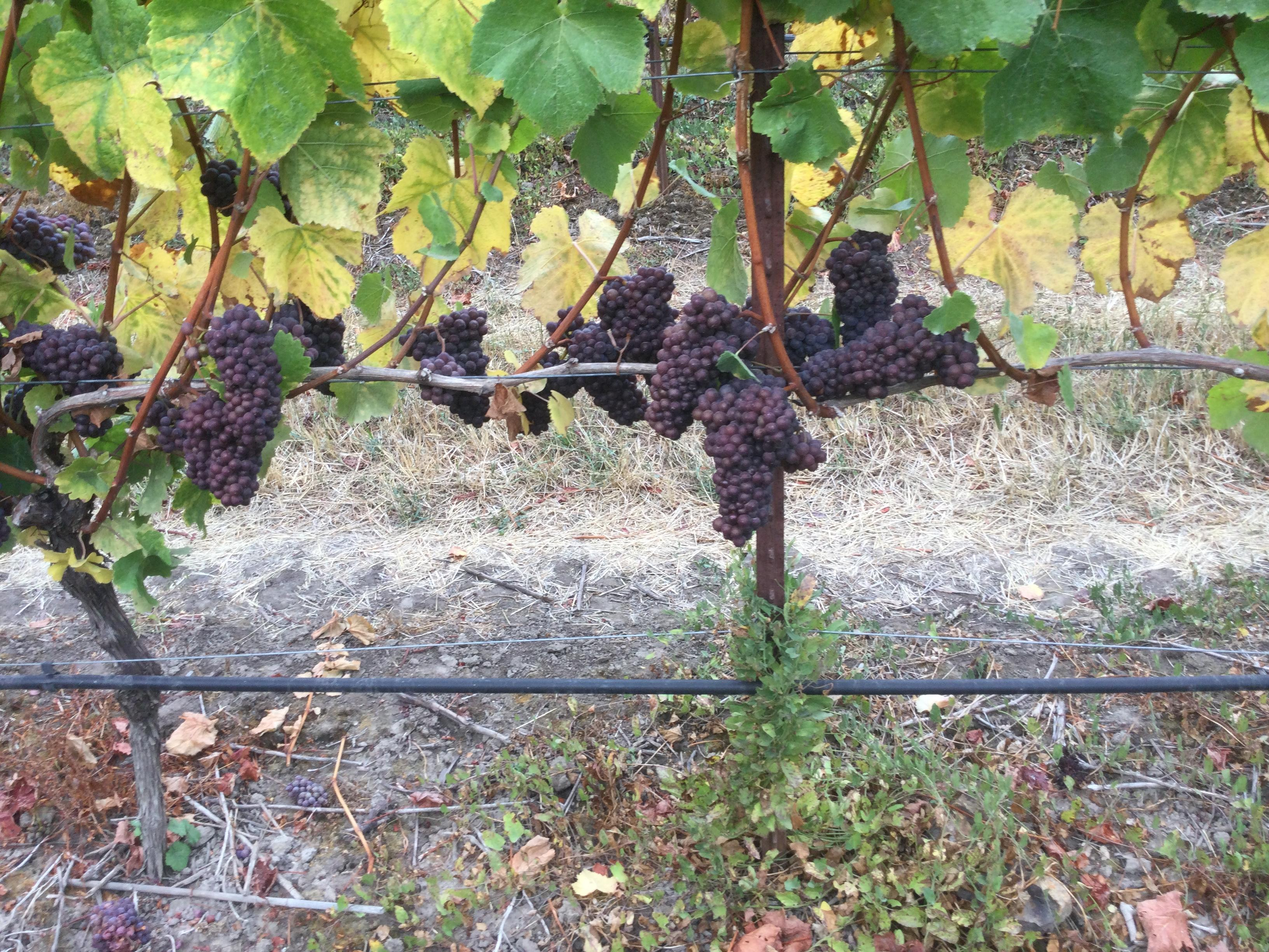leaf: (147, 0, 364, 161), (31, 0, 175, 190), (983, 0, 1146, 150), (472, 0, 645, 135), (945, 177, 1075, 311), (0, 4, 91, 193), (279, 102, 391, 234), (385, 137, 480, 281), (382, 0, 498, 115), (249, 208, 361, 317), (516, 205, 617, 322), (115, 242, 209, 362), (752, 61, 854, 163), (1142, 87, 1229, 204), (572, 92, 659, 195), (343, 0, 434, 95), (893, 0, 1044, 57), (912, 48, 1005, 138), (446, 170, 516, 281), (92, 517, 175, 610), (785, 107, 863, 205), (1129, 198, 1194, 301), (789, 17, 892, 70), (0, 250, 75, 322), (1206, 376, 1268, 453), (673, 19, 732, 99), (1219, 229, 1268, 325), (922, 133, 972, 226), (1083, 126, 1148, 193), (706, 198, 748, 301), (1225, 84, 1268, 181), (1080, 201, 1122, 293), (395, 78, 465, 130), (877, 129, 923, 202), (1130, 76, 1183, 138), (1006, 305, 1058, 368), (126, 450, 175, 516), (783, 202, 830, 270), (1033, 157, 1089, 214), (1233, 20, 1268, 110), (847, 186, 914, 233), (128, 187, 181, 244), (220, 252, 269, 312), (416, 192, 459, 260), (330, 382, 398, 425), (668, 158, 722, 211), (54, 457, 119, 500), (177, 164, 211, 243), (172, 478, 215, 534), (272, 332, 311, 392), (923, 290, 976, 333), (462, 108, 510, 154), (353, 268, 392, 324), (1205, 377, 1246, 429), (693, 0, 740, 44), (613, 157, 648, 216), (259, 420, 292, 482), (1182, 0, 1268, 19), (798, 0, 861, 22), (22, 384, 60, 420), (715, 350, 757, 381), (506, 116, 540, 154), (0, 433, 33, 471), (548, 391, 575, 435), (356, 320, 395, 350), (1241, 412, 1268, 454), (1056, 363, 1075, 412), (1224, 348, 1268, 366), (0, 472, 31, 496), (639, 169, 659, 206), (809, 241, 834, 270), (629, 0, 665, 19), (904, 208, 926, 239), (363, 345, 393, 366), (479, 182, 504, 203), (789, 282, 813, 303), (829, 221, 852, 239), (49, 415, 73, 432), (475, 156, 491, 181), (610, 255, 628, 273), (928, 243, 939, 269), (582, 297, 596, 315), (820, 72, 839, 84), (148, 237, 165, 244), (500, 162, 509, 169), (256, 195, 261, 204), (194, 169, 198, 179), (261, 185, 264, 192), (392, 310, 395, 317), (252, 205, 255, 211), (112, 426, 121, 428), (203, 199, 205, 208), (156, 454, 162, 457), (163, 457, 165, 464), (225, 290, 229, 293), (168, 466, 170, 472), (115, 578, 117, 583), (698, 21, 708, 22), (199, 195, 202, 198), (406, 358, 410, 360), (230, 278, 233, 280), (385, 313, 386, 317), (279, 209, 280, 210), (270, 186, 271, 187), (437, 315, 438, 316), (160, 200, 161, 200), (498, 200, 500, 200)
